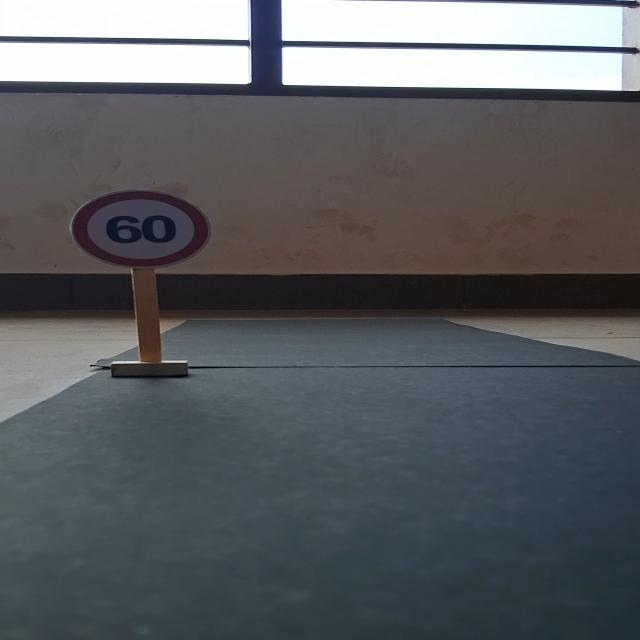Speed60: (68, 186, 214, 267)
